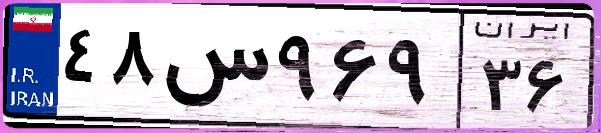3: (475, 38, 525, 113)
4: (57, 26, 110, 100)
6: (330, 28, 385, 110), (525, 38, 570, 115)
8: (110, 28, 158, 98)
9: (270, 28, 330, 110), (385, 28, 445, 110)
س: (158, 20, 270, 120)
